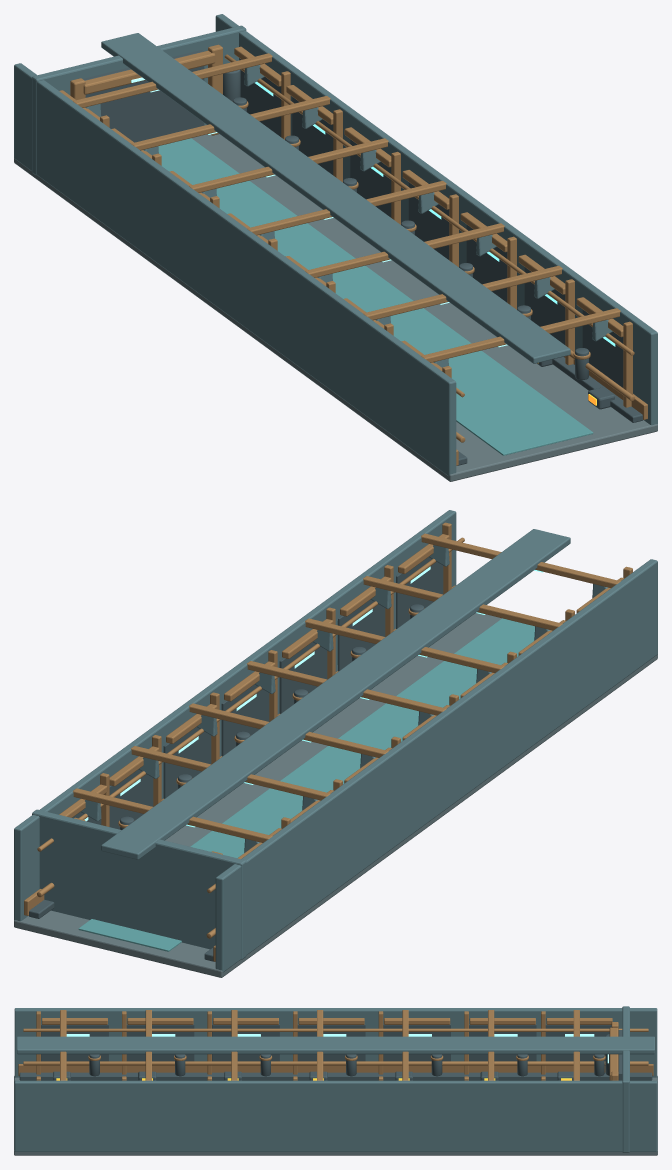
File: neonCorridorContainmentWorld.glb
3 renders of one model, top to bottom at view 1: azimuth 30°, elevation 25°; view 2: azimuth 150°, elevation 25°; view 3: azimuth 270°, elevation 25°, orthographic. The views are drawn at different scales.
Visible parts, largest first — view 1: Containment Corridor — NC blue steel shell, Containment Corridor — NC aged bronze, Containment Corridor — NC teal panels, Containment Corridor — NC service machinery, Containment Corridor — NC deck gunmetal; view 2: Containment Corridor — NC blue steel shell, Containment Corridor — NC aged bronze, Containment Corridor — NC teal panels, Containment Corridor — NC deck gunmetal, Containment Corridor — NC service machinery; view 3: Containment Corridor — NC blue steel shell, Containment Corridor — NC aged bronze, Containment Corridor — NC service machinery, Containment Corridor — NC deck gunmetal, Containment Corridor — NC cyan containment light.
Boxes of the visible parts, x1=… form: Containment Corridor — NC blue steel shell: x1=14, y1=14, x2=657, y2=476; Containment Corridor — NC aged bronze: x1=59, y1=44, x2=647, y2=465; Containment Corridor — NC teal panels: x1=158, y1=138, x2=593, y2=455; Containment Corridor — NC service machinery: x1=83, y1=50, x2=642, y2=465; Containment Corridor — NC deck gunmetal: x1=14, y1=134, x2=657, y2=481; Containment Corridor — NC blue steel shell: x1=14, y1=510, x2=657, y2=972; Containment Corridor — NC aged bronze: x1=24, y1=522, x2=632, y2=961; Containment Corridor — NC teal panels: x1=78, y1=618, x2=534, y2=951; Containment Corridor — NC deck gunmetal: x1=14, y1=613, x2=657, y2=977; Containment Corridor — NC service machinery: x1=29, y1=557, x2=443, y2=961; Containment Corridor — NC blue steel shell: x1=14, y1=1006, x2=657, y2=1152; Containment Corridor — NC aged bronze: x1=18, y1=1010, x2=653, y2=1080; Containment Corridor — NC service machinery: x1=19, y1=1024, x2=652, y2=1080; Containment Corridor — NC deck gunmetal: x1=14, y1=1076, x2=657, y2=1155; Containment Corridor — NC cyan containment light: x1=66, y1=1034, x2=608, y2=1063.
Size of the model in its own units: 6.18 by 2.87 by 22.2.
